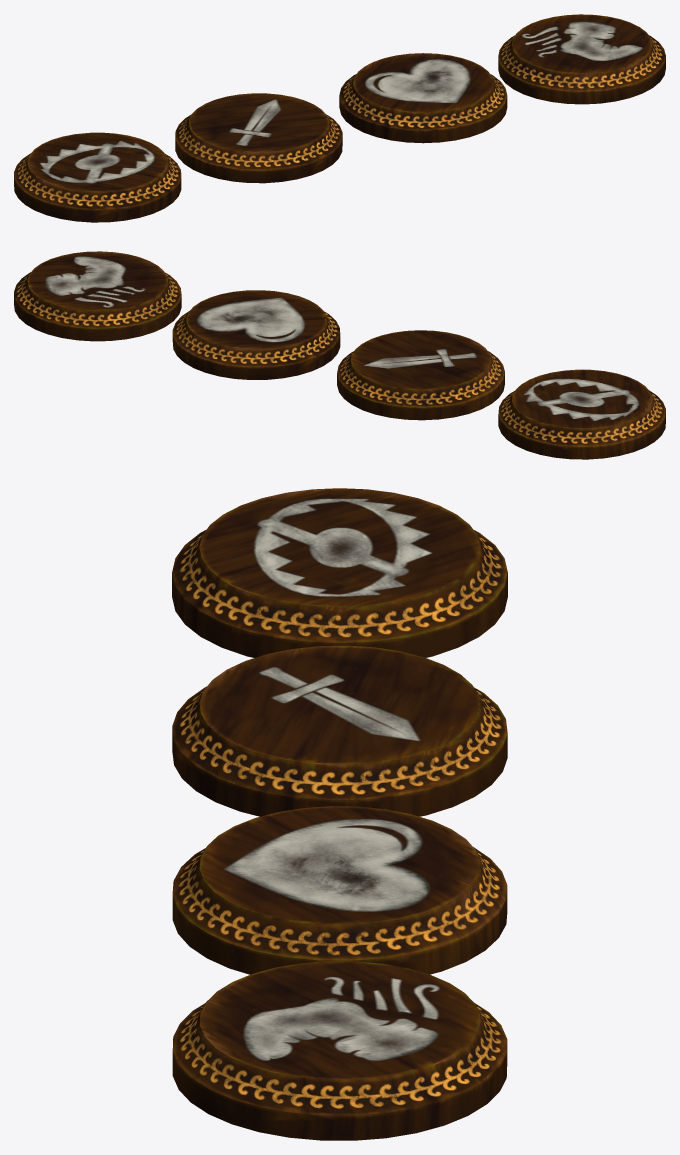
File: fishka.fbx
The picture shows the model from 3 angles, top to bottom: view 1: azimuth 30°, elevation 25°; view 2: azimuth 150°, elevation 25°; view 3: azimuth 270°, elevation 25°; orthographic projection. The views are drawn at different scales.
Visible parts, largest first — view 1: fishka.002, fishka.004, fishka.003, fishka.001; view 2: fishka.004, fishka.003, fishka.002, fishka.001; view 3: fishka.003, fishka.001, fishka.004, fishka.002.
Boxes of the visible parts, x1,y1,x2,y2 form: fishka.002: [339, 53, 507, 143]; fishka.004: [14, 132, 181, 222]; fishka.003: [498, 14, 665, 104]; fishka.001: [175, 93, 342, 183]; fishka.004: [498, 369, 665, 459]; fishka.003: [14, 251, 181, 341]; fishka.002: [172, 290, 340, 379]; fishka.001: [337, 330, 504, 420]; fishka.003: [172, 961, 507, 1140]; fishka.001: [172, 645, 507, 816]; fishka.004: [172, 488, 507, 657]; fishka.002: [172, 806, 507, 974].
Size of the model in its own units: 0.1318 by 0.00498 by 0.0304.
Materials: 1 (1 with a texture image).
